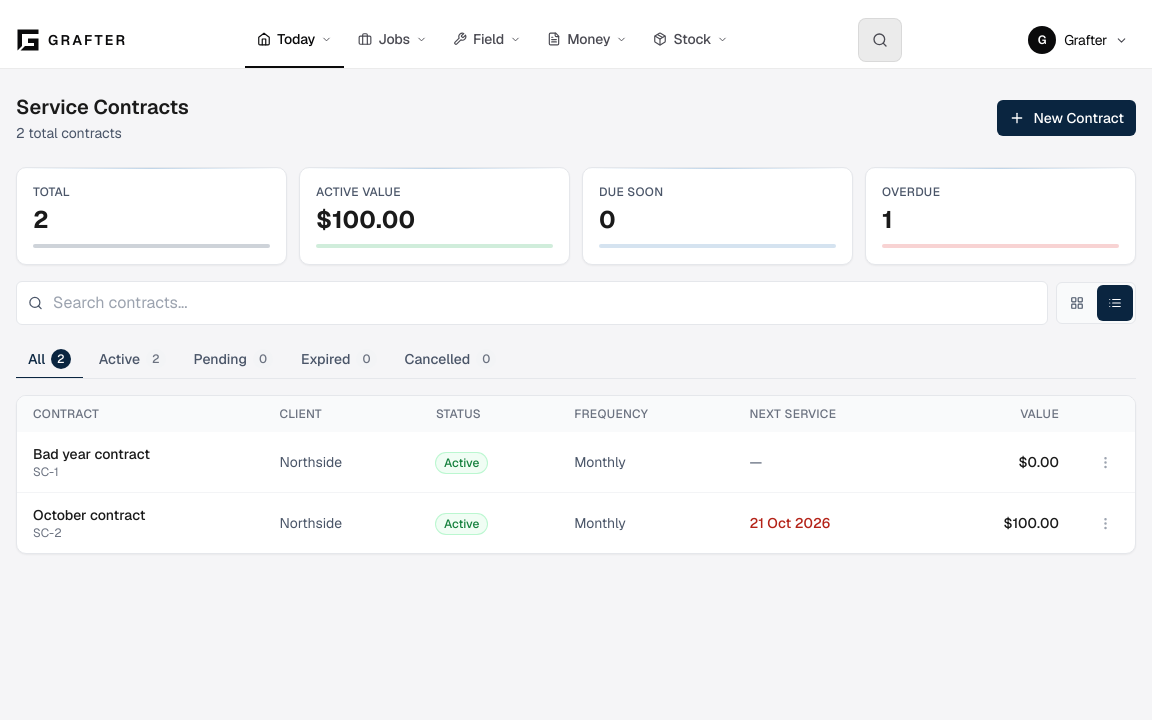
Test: list dates stay readable › Contracts list shows an em dash for a bad next service and formats a real day
The image size is (1152, 720).
Click the button titled "Thumbnail grid view" at (1077, 303), box [1059,285,1095,321]
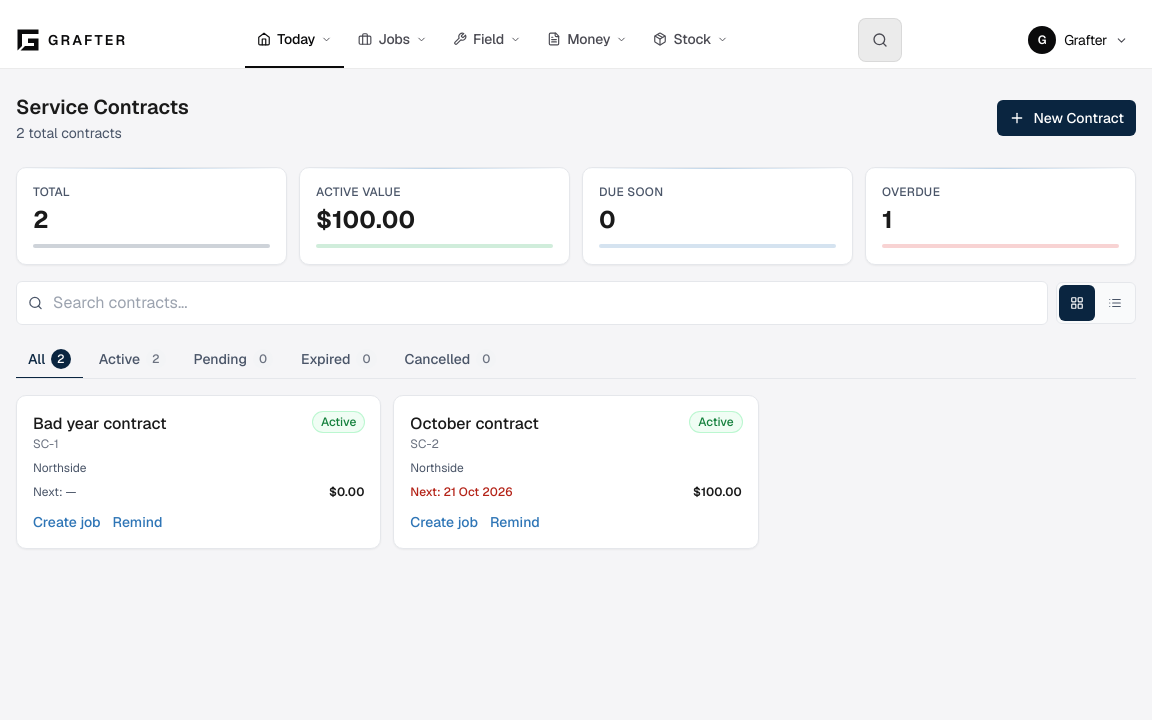
Expected: the text "Next: 21 Oct 2026" is shown, [410,484,513,500]
